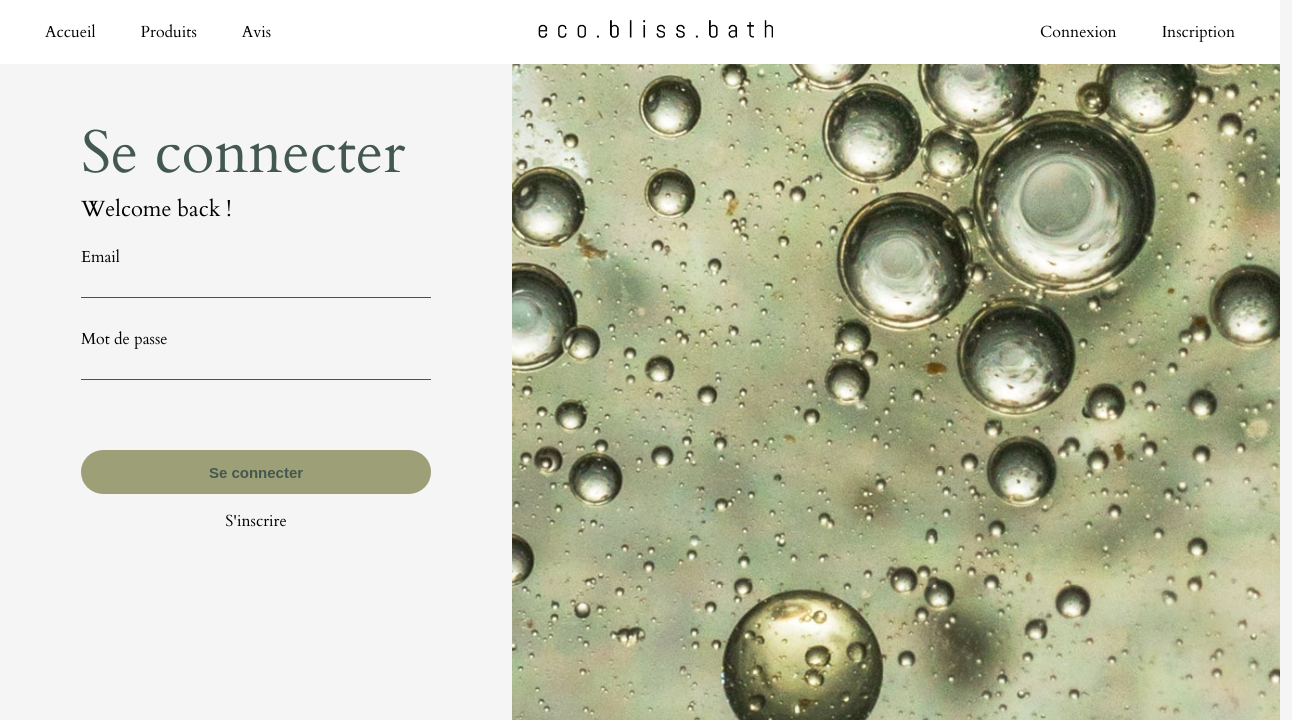
Login Test › Should fail to login with incorrect credentials
This screenshot has width=1292, height=720.
Type "wrongUser" into the field with test id "login-input-username". click: point(256, 283)
box: [81, 268, 431, 298]
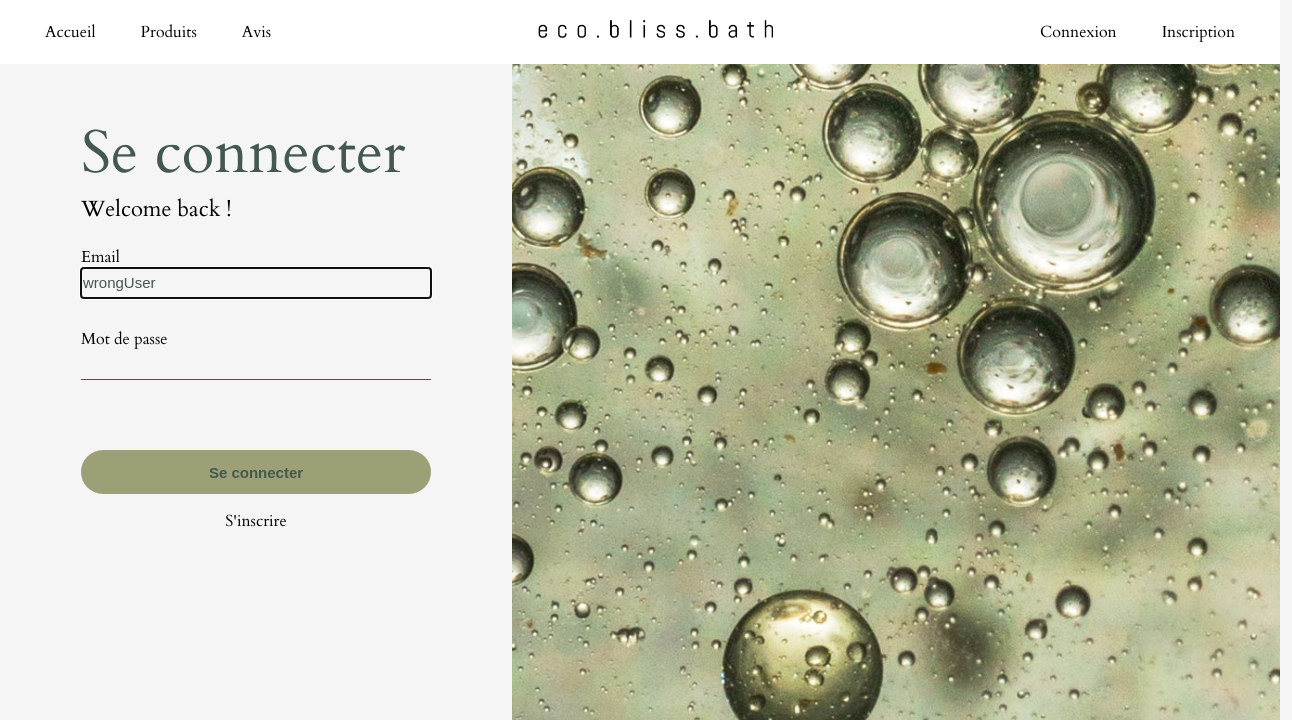
Type "wrongPassword" into the password field with test id "login-input-password". click: point(256, 365)
box: [81, 350, 431, 380]
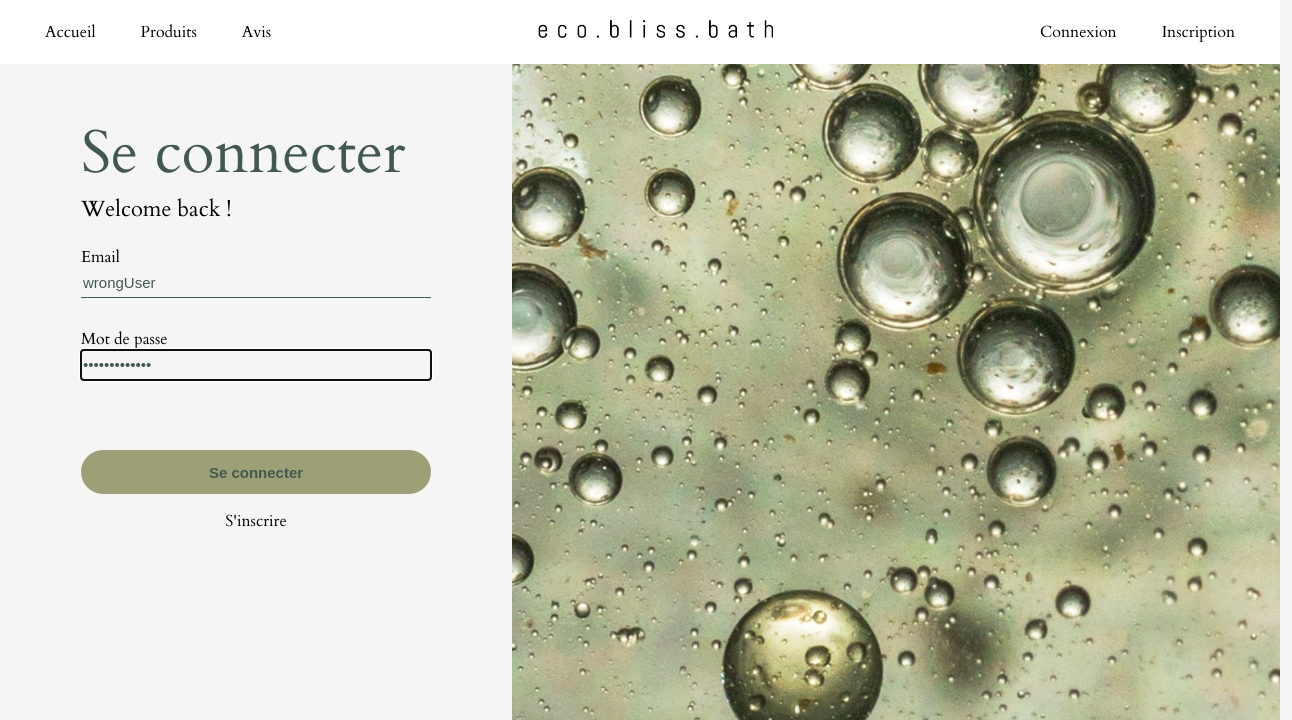
Click the button with test id "login-submit". click: point(256, 472)
box: [81, 450, 431, 494]
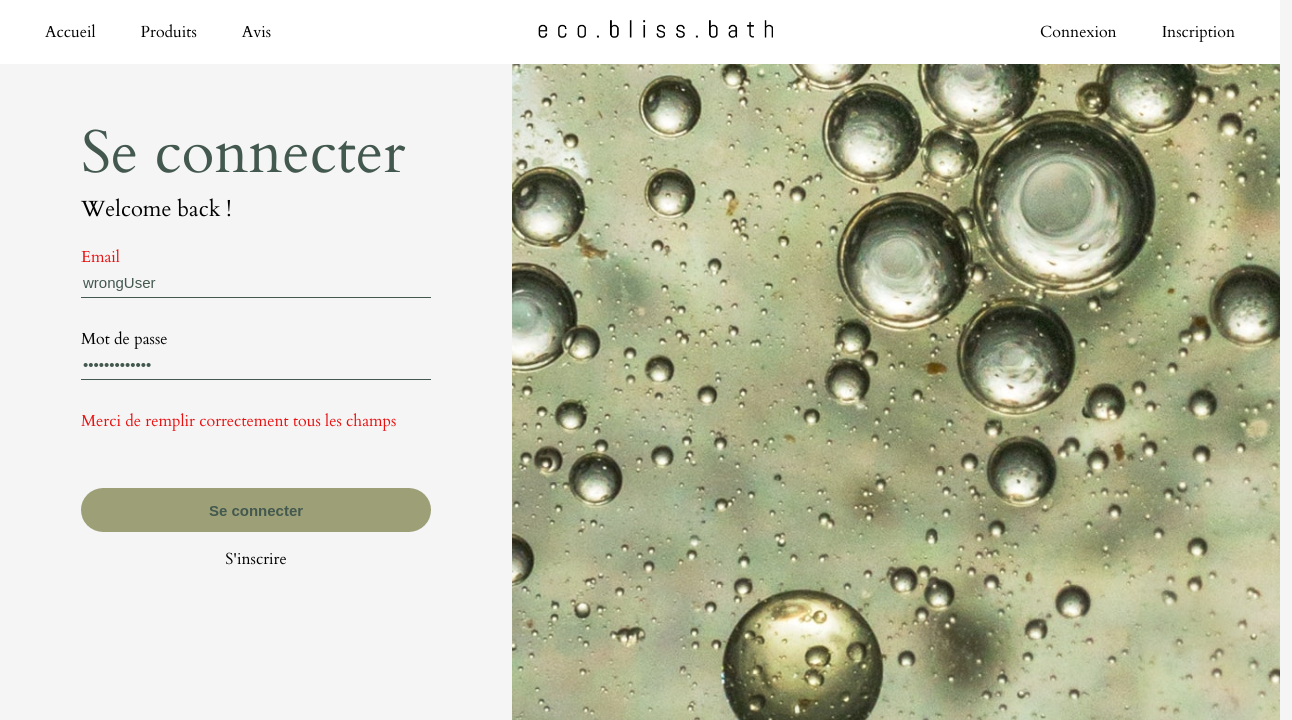
Expected: the text with test id "login-errors" reads "Merci de remplir correctement tous les champs", [81, 410, 431, 432]
